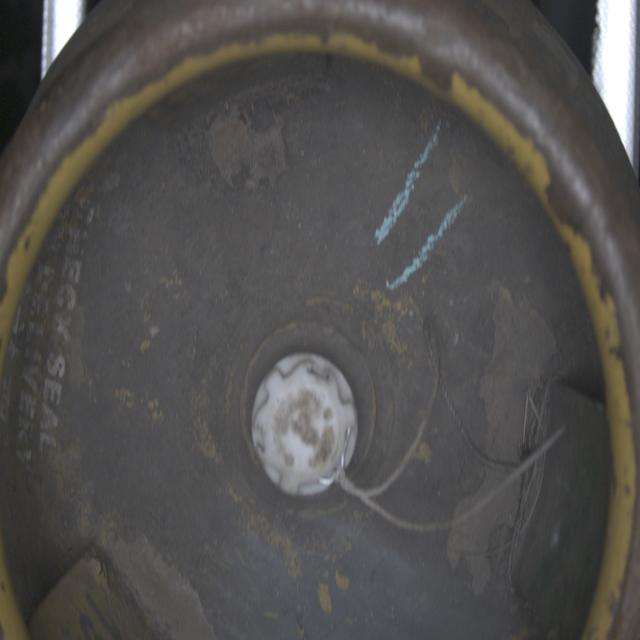Cap: (248, 351, 359, 496)
